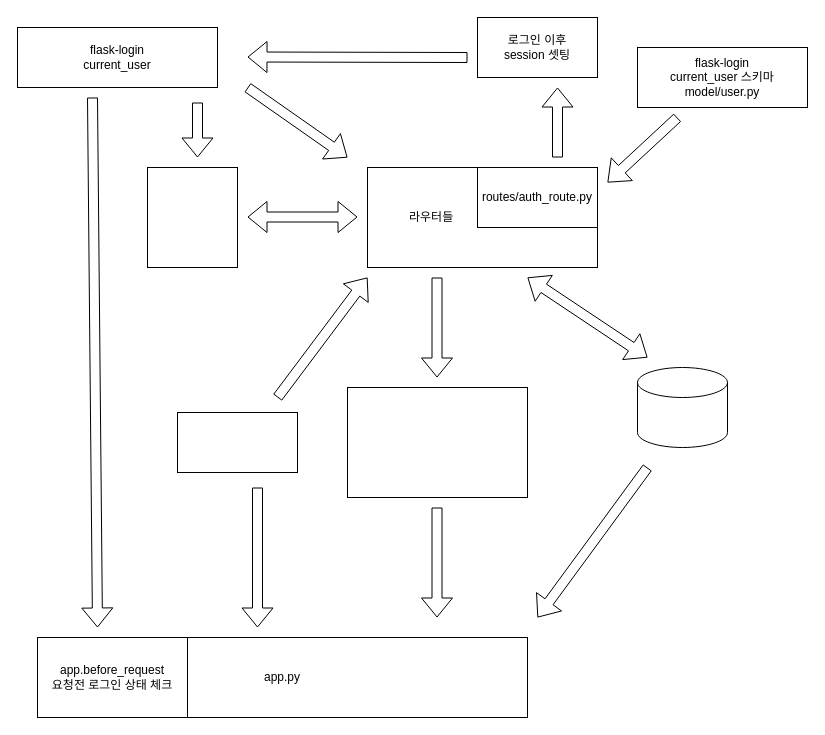
This 825x735 diagram has some shape labels left out. The centre of each missing label's shape, as x and y in pixels:
"extension.py, db.py" goes at (237,442).
"MongoDB (infranet 컬렉션)" goes at (682,407).
"templates/static" goes at (192,217).
"라우터들의 blueprint" goes at (437,442).
